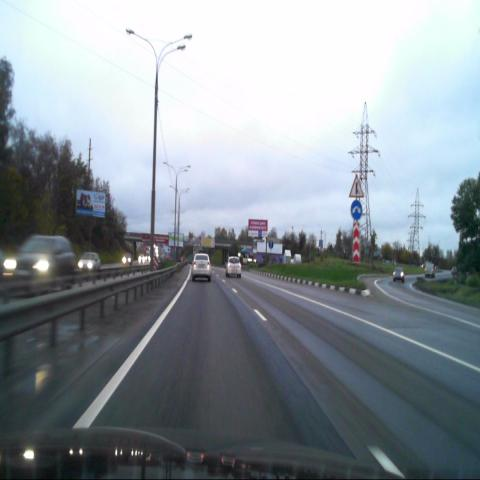2_3_6: (348, 174, 364, 197)
